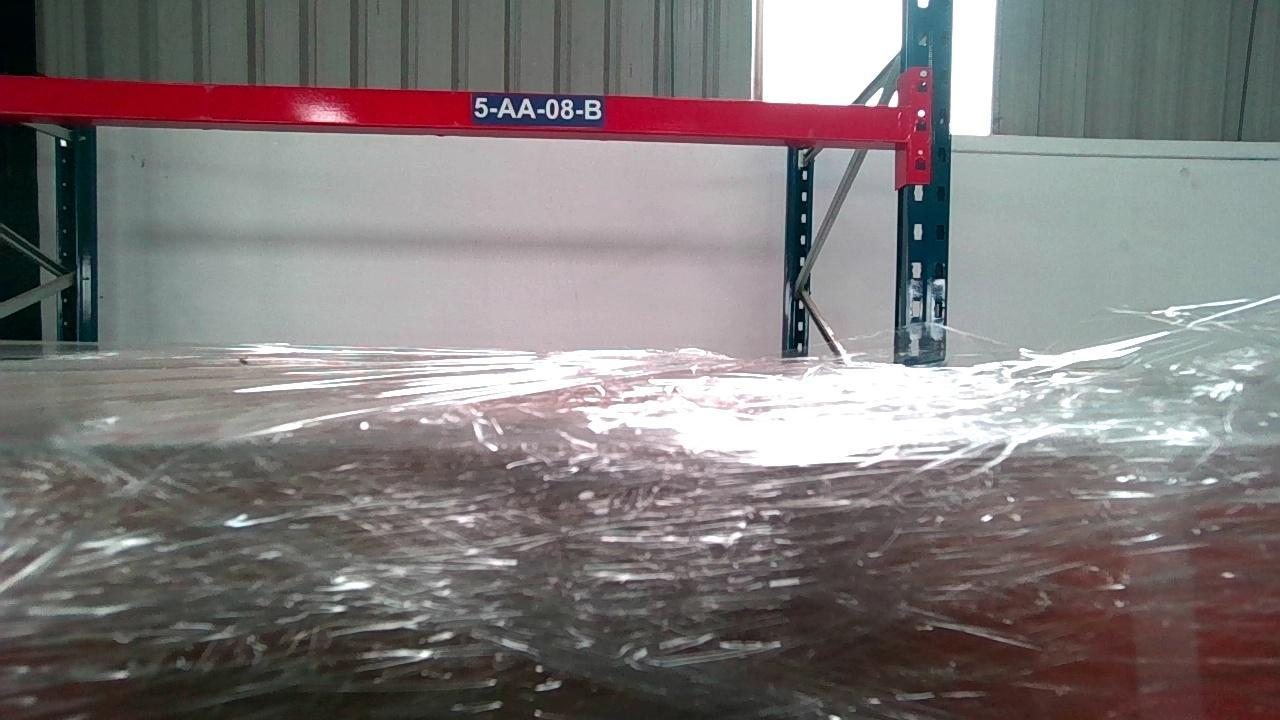h_rack: (0, 72, 916, 143)
